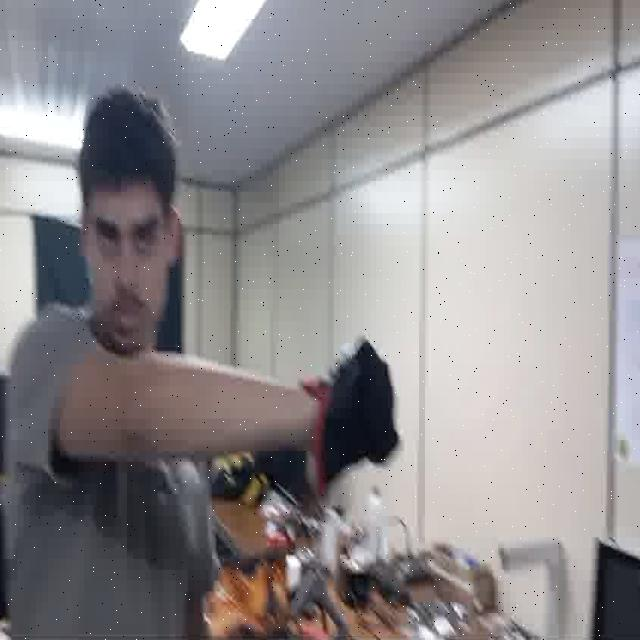Gloves: (305, 339, 399, 489)
